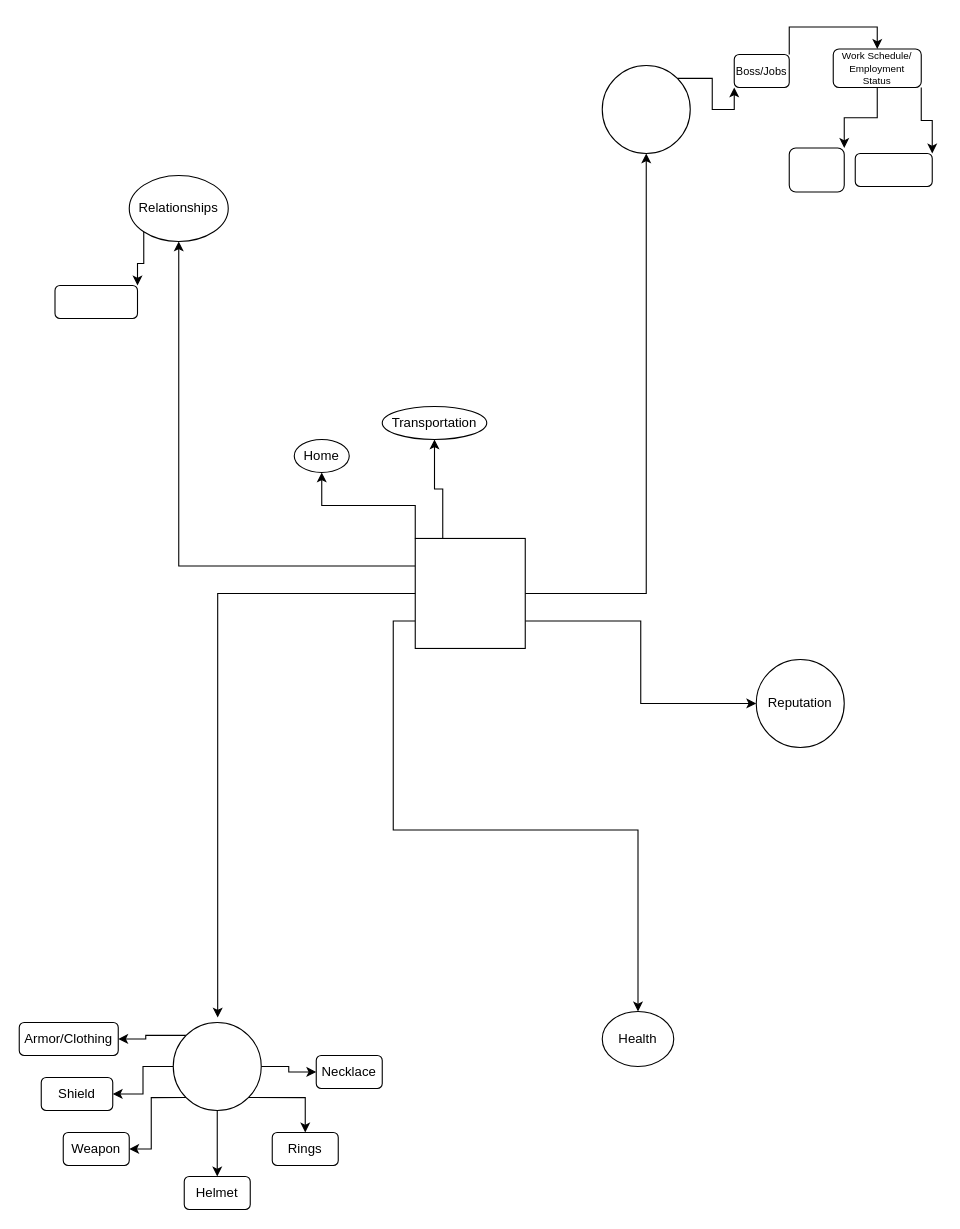
Some shapes in this 960 by 1229 pixel diagram are drawn without their labels. The shapes that lost their labels are listed below. From the top down, each one's centre as x and y in pixels, then its label:
(x=645, y=108): Jobs/Money
(x=816, y=169): Time Skip/Work Injuries
(x=893, y=169): FIRED!/Rep-update
(x=96, y=301): Correspondence
(x=469, y=592): Player
(x=216, y=1065): Equipment
